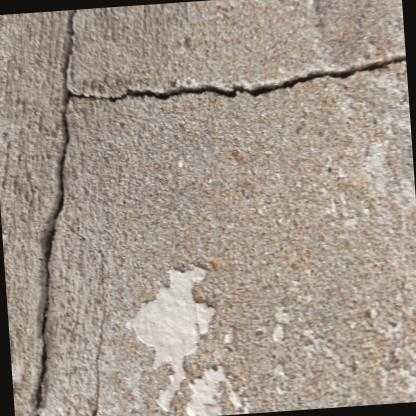crack: (30, 9, 406, 416)
